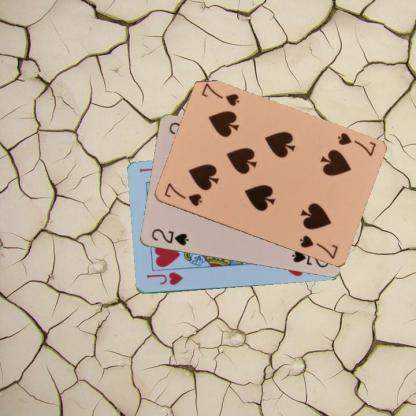2s: (149, 226, 190, 247)
7s: (334, 130, 377, 158), (162, 180, 204, 208)
Jh: (144, 270, 184, 286)
